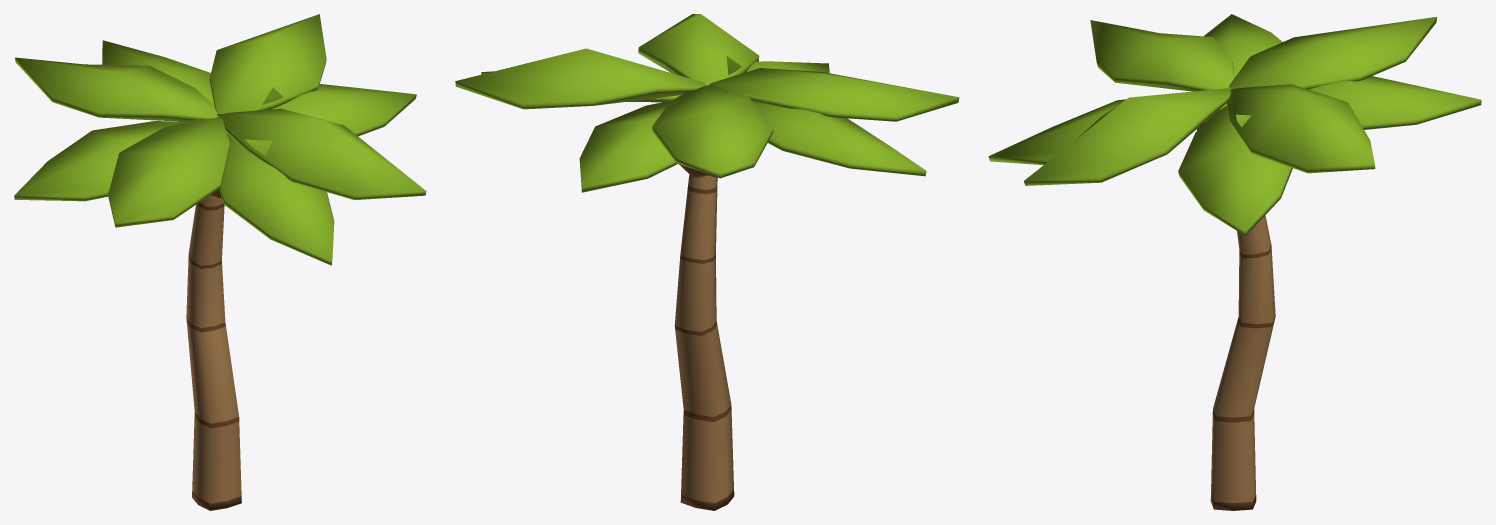
The model's file is plam1.fbx.
3 renders of one model, left to right at view 1: azimuth 30°, elevation 25°; view 2: azimuth 150°, elevation 25°; view 3: azimuth 270°, elevation 25°, orthographic. The views are drawn at different scales.
Visible parts, largest first — view 1: palm1; view 2: palm1; view 3: palm1.
Part boxes in pixels (x1,y1,x2,y2): palm1: (14,14,426,510); palm1: (455,14,959,510); palm1: (988,14,1481,510).
Bounding box in the file's own units: 434 × 428 × 423.
